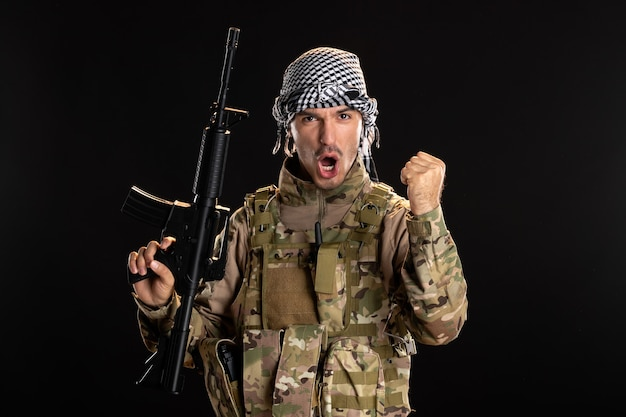gun: (123, 25, 251, 394)
